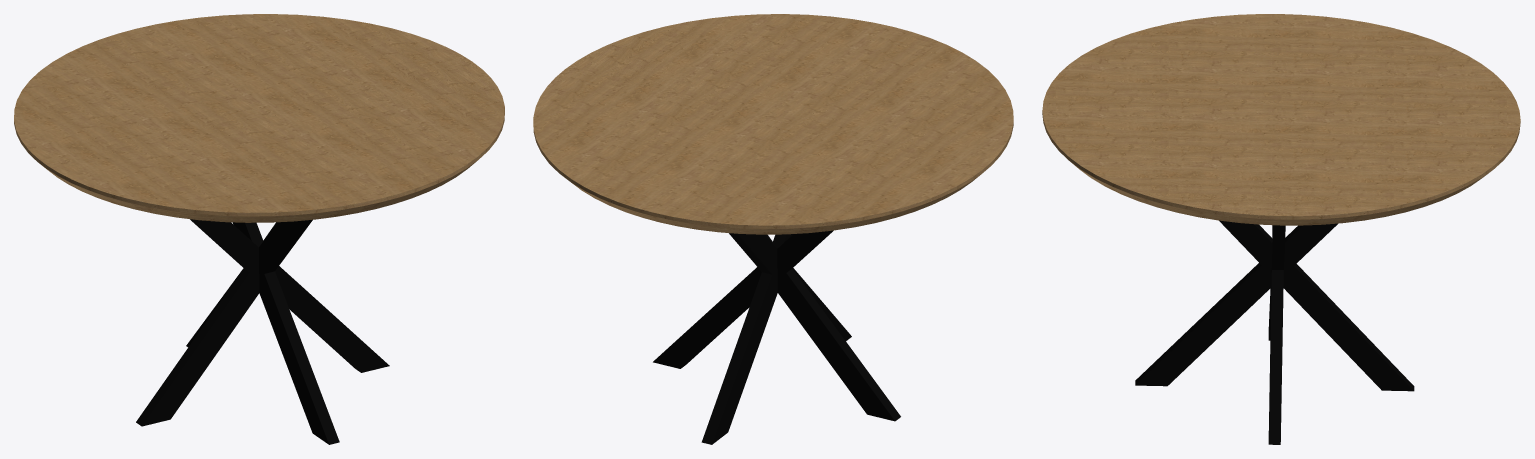
The model's file is 8ae16f92-d21f-43fe-aa2d-254bfed9cb30.glb.
3 views of the same model, side by side, from view 1: azimuth 30°, elevation 25°; view 2: azimuth 150°, elevation 25°; view 3: azimuth 270°, elevation 25° (orthographic). The views are drawn at different scales.
Parts seen in each view (by area): view 1: Mesh_0, Mesh_1; view 2: Mesh_0, Mesh_1; view 3: Mesh_0, Mesh_1.
Boxes of the visible parts, x1=… form: Mesh_0: x1=14, y1=14, x2=504, y2=222; Mesh_1: x1=136, y1=219, x2=389, y2=444; Mesh_0: x1=533, y1=14, x2=1013, y2=234; Mesh_1: x1=653, y1=230, x2=900, y2=444; Mesh_0: x1=1042, y1=14, x2=1520, y2=225; Mesh_1: x1=1135, y1=220, x2=1414, y2=444.
Bounding box in the file's own units: 120 × 77.12 × 120.
Materials: 2 (1 with a texture image).
